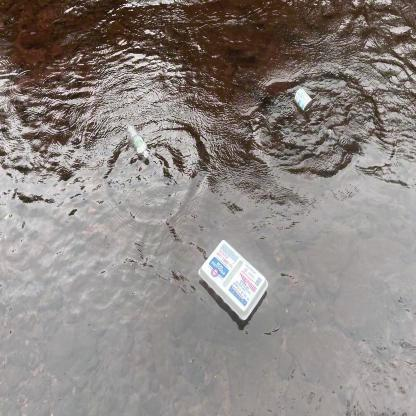Metal: (289, 85, 314, 114)
Plastic: (193, 236, 271, 324), (123, 122, 155, 161)
